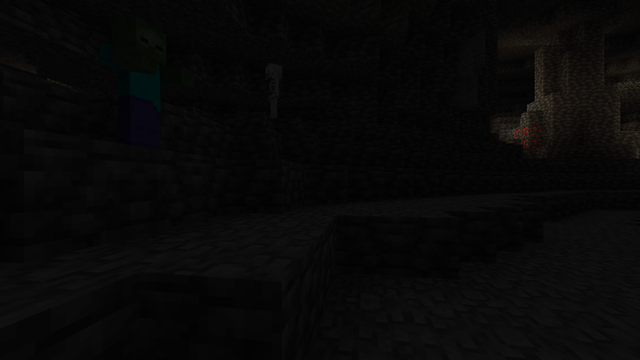squelettes: (263, 63, 283, 119)
zombies: (105, 18, 170, 128)
